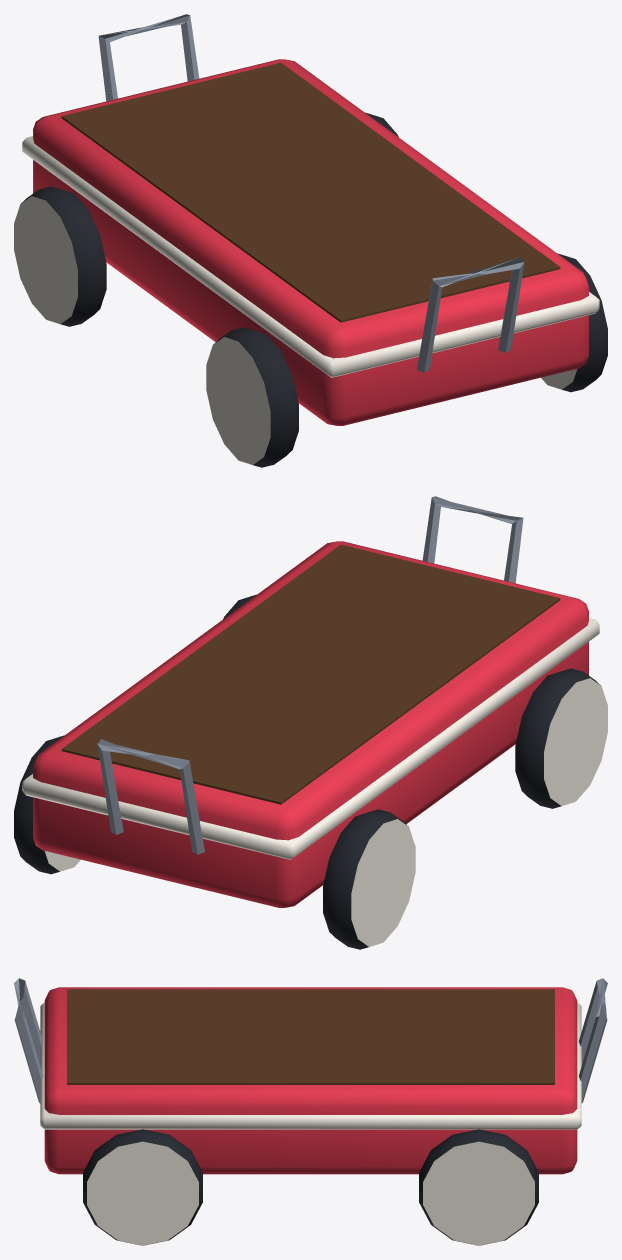
The model's file is Wagon.fbx.
3 renders of one model, top to bottom at view 1: azimuth 30°, elevation 25°; view 2: azimuth 150°, elevation 25°; view 3: azimuth 270°, elevation 25°, orthographic. The views are drawn at different scales.
Parts seen in each view (by area): view 1: Wagon; view 2: Wagon; view 3: Wagon.
Boxes of the visible parts, box(x1,y1,x2,y2) form: Wagon: box(14, 14, 607, 467); Wagon: box(14, 496, 607, 949); Wagon: box(14, 978, 607, 1245).
Size of the model in its own units: 1.66 by 0.9698 by 2.9.
